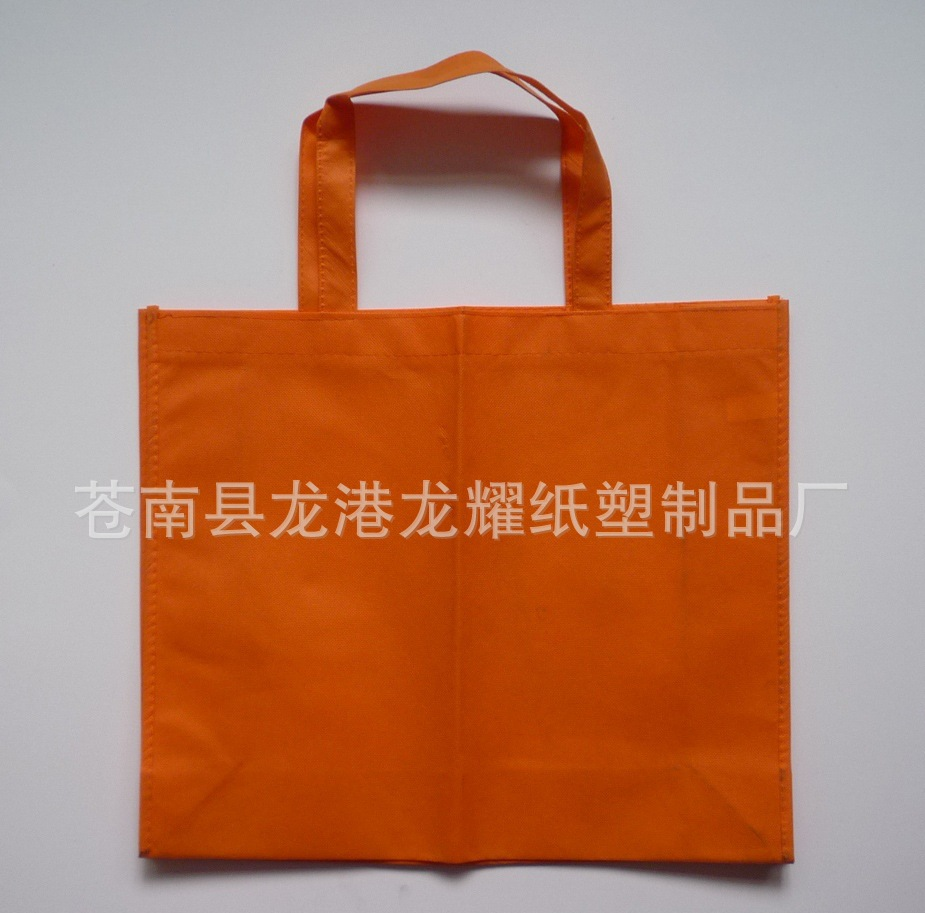flexible: (138, 50, 796, 870)
